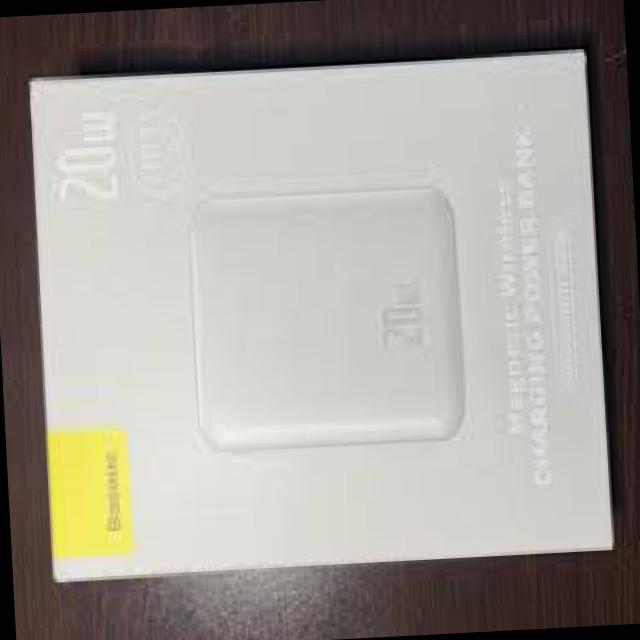power_bank: (185, 178, 466, 450)
